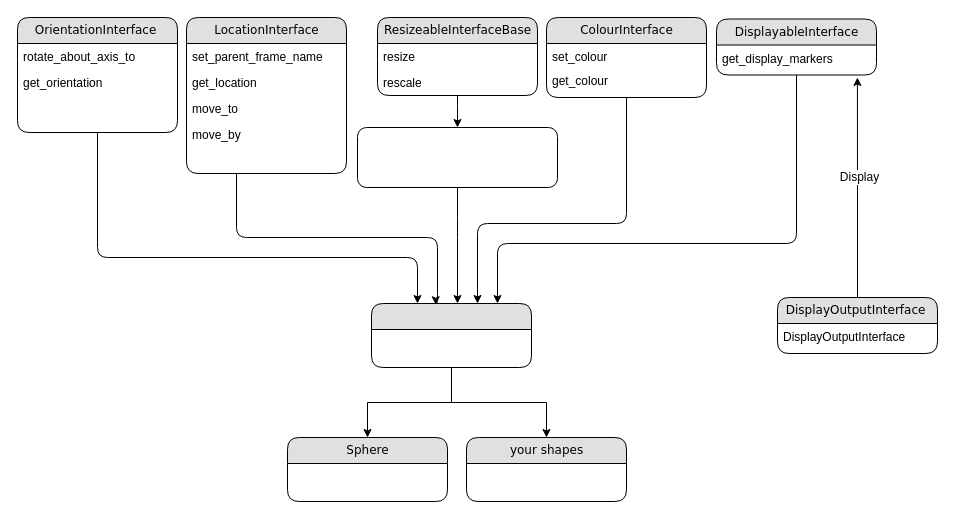
Some shapes in this 955 by 519 pixel diagram are drawn without their labels. Each missing label, with the centre of its shape:
"BasicResizeableInterface = ResizeableInterfaceBase<AllAxis>" belongs at pixel 457 157.
"ShapeCommonInterface" belongs at pixel 451 335.
